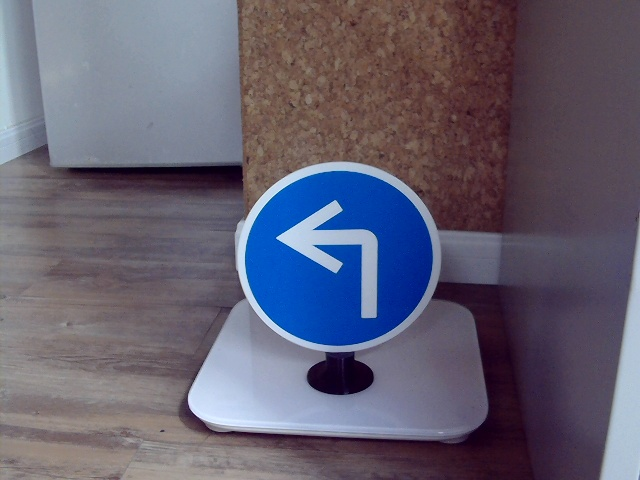turn_left: (274, 197, 386, 314)
